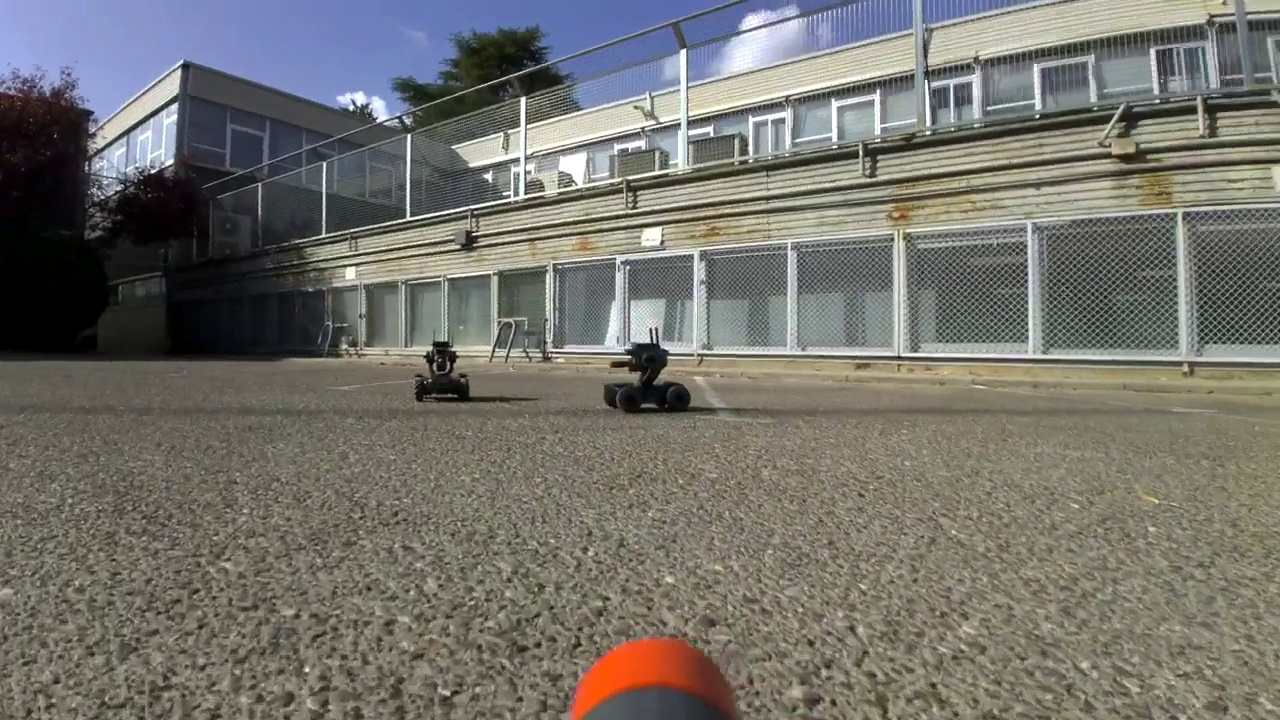robot: (602, 330, 693, 412), (413, 326, 471, 401)
